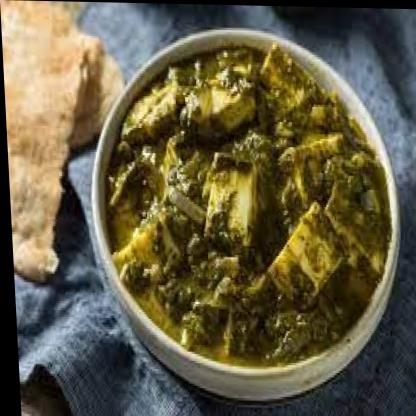palak_paneer: (97, 41, 396, 371)
